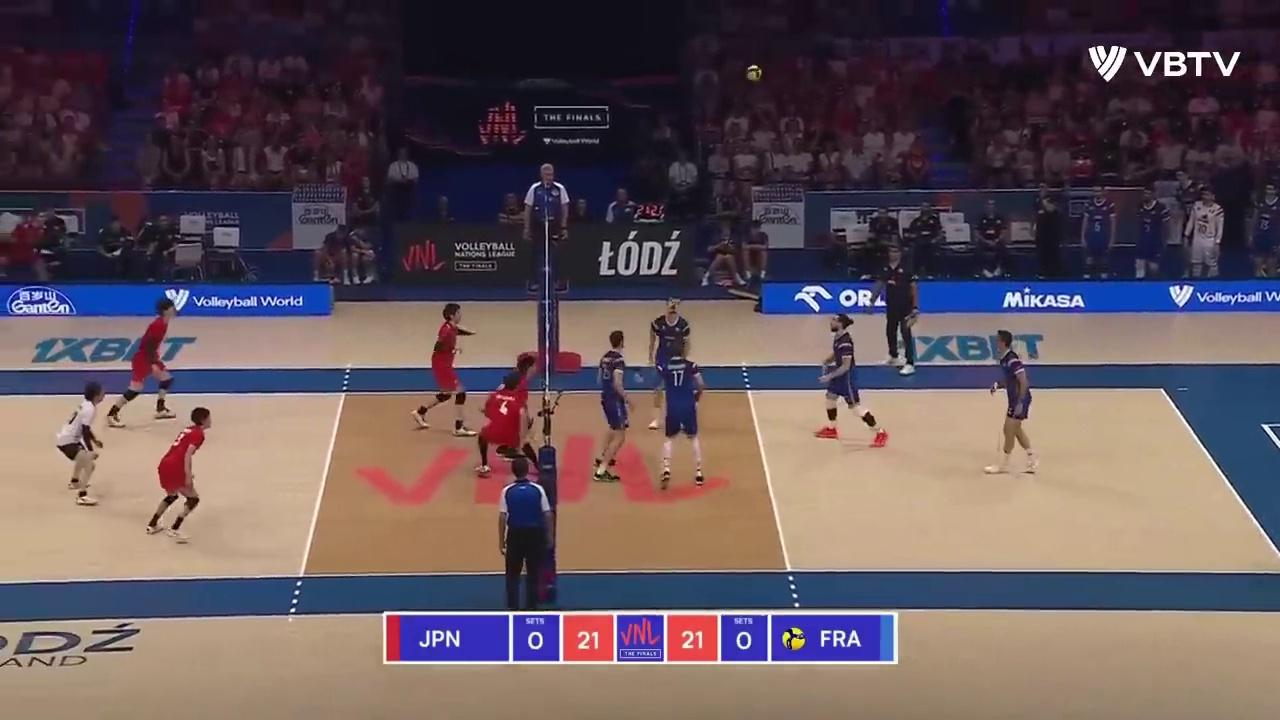ball: (746, 65, 763, 82)
